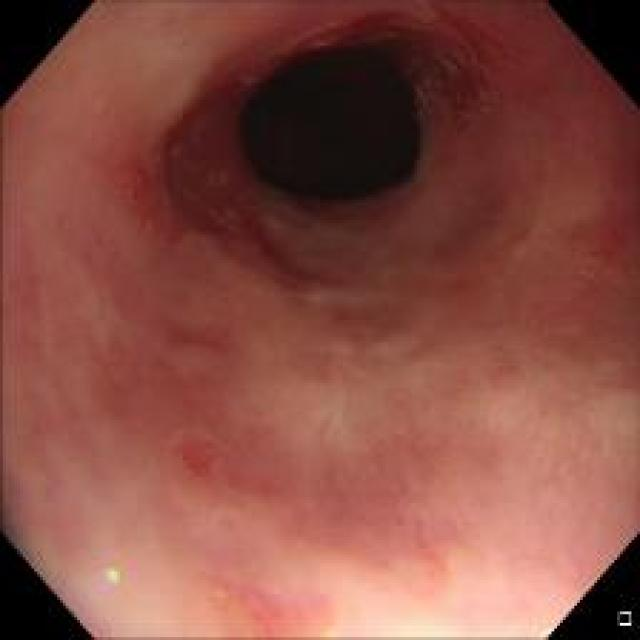color misalignment: (99, 564, 126, 591)
contrast: (234, 31, 428, 209)
